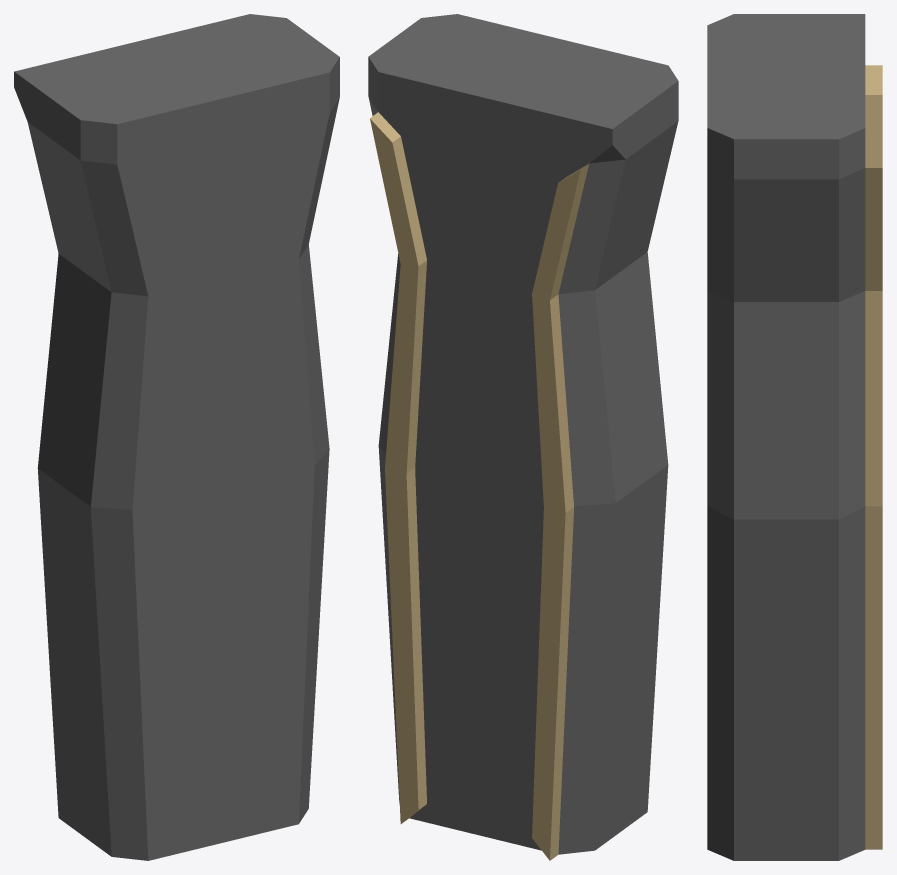
Rendered from hwy.glb.
The picture shows the model from 3 angles, left to right: view 1: azimuth 30°, elevation 25°; view 2: azimuth 150°, elevation 25°; view 3: azimuth 270°, elevation 25°; orthographic projection.
Visible parts, largest first — view 1: pier; view 2: pier; view 3: pier.
Boxes of the visible parts, x1,y1,x2,y2 form: pier: (14, 14, 339, 860); pier: (368, 14, 678, 860); pier: (707, 14, 882, 860).
Bounding box in the file's own units: 2.94 × 8.08 × 1.74.
